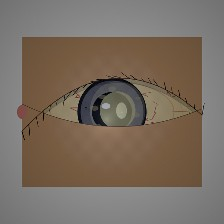corneal_ulcer: (87, 86, 148, 135)
